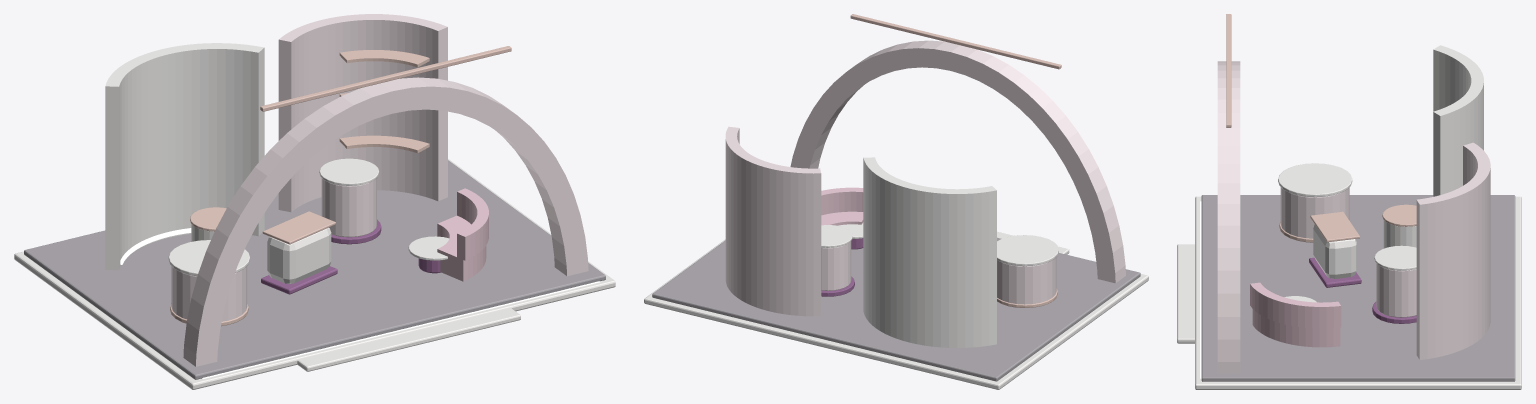
File: booth_02_organic_flow_v27_4.glb
3 views of the same model, side by side, from view 1: azimuth 30°, elevation 25°; view 2: azimuth 150°, elevation 25°; view 3: azimuth 270°, elevation 25° (orthographic). The views are drawn at different scales.
Parts seen in each view (by area): view 1: MatGroup_BlushPlaster, MatGroup_GalleryIvory, MatGroup_TerrazzoFloor, MatGroup_RoseGoldTrim, MatGroup_BlushVelvet, MatGroup_DeepPlumAccent, MatGroup_SoftGalleryGlow; view 2: MatGroup_BlushPlaster, MatGroup_GalleryIvory, MatGroup_TerrazzoFloor, MatGroup_BlushVelvet, MatGroup_RoseGoldTrim; view 3: MatGroup_TerrazzoFloor, MatGroup_BlushPlaster, MatGroup_GalleryIvory, MatGroup_BlushVelvet, MatGroup_RoseGoldTrim, MatGroup_DeepPlumAccent, MatGroup_SoftGalleryGlow.
Part boxes in pixels (x1=…): MatGroup_BlushPlaster: x1=171, y1=14, x2=588, y2=366; MatGroup_GalleryIvory: x1=14, y1=43, x2=615, y2=389; MatGroup_TerrazzoFloor: x1=24, y1=160, x2=605, y2=379; MatGroup_RoseGoldTrim: x1=170, y1=46, x2=511, y2=326; MatGroup_BlushVelvet: x1=437, y1=188, x2=488, y2=281; MatGroup_DeepPlumAccent: x1=261, y1=219, x2=440, y2=294; MatGroup_SoftGalleryGlow: x1=120, y1=228, x2=600, y2=378; MatGroup_BlushPlaster: x1=725, y1=40, x2=1125, y2=316; MatGroup_GalleryIvory: x1=644, y1=157, x2=1148, y2=389; MatGroup_TerrazzoFloor: x1=652, y1=237, x2=1140, y2=381; MatGroup_BlushVelvet: x1=821, y1=187, x2=863, y2=225; MatGroup_RoseGoldTrim: x1=850, y1=14, x2=1061, y2=307; MatGroup_TerrazzoFloor: x1=1201, y1=195, x2=1515, y2=381; MatGroup_BlushPlaster: x1=1217, y1=61, x2=1490, y2=373; MatGroup_GalleryIvory: x1=1177, y1=45, x2=1521, y2=389; MatGroup_BlushVelvet: x1=1250, y1=282, x2=1341, y2=347; MatGroup_RoseGoldTrim: x1=1226, y1=14, x2=1416, y2=242; MatGroup_DeepPlumAccent: x1=1309, y1=257, x2=1416, y2=323; MatGroup_SoftGalleryGlow: x1=1200, y1=201, x2=1201, y2=378.
Bounding box in the file's own units: 6.72 × 3.77 × 5.19.
